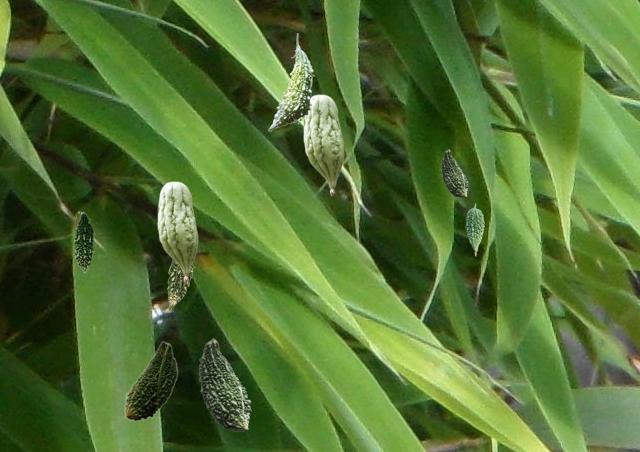ampalaya: (199, 338, 250, 430), (268, 33, 313, 130), (124, 341, 177, 420), (303, 94, 343, 195), (157, 181, 197, 282), (163, 260, 193, 311), (441, 149, 467, 196), (74, 211, 94, 272), (465, 203, 483, 255)
